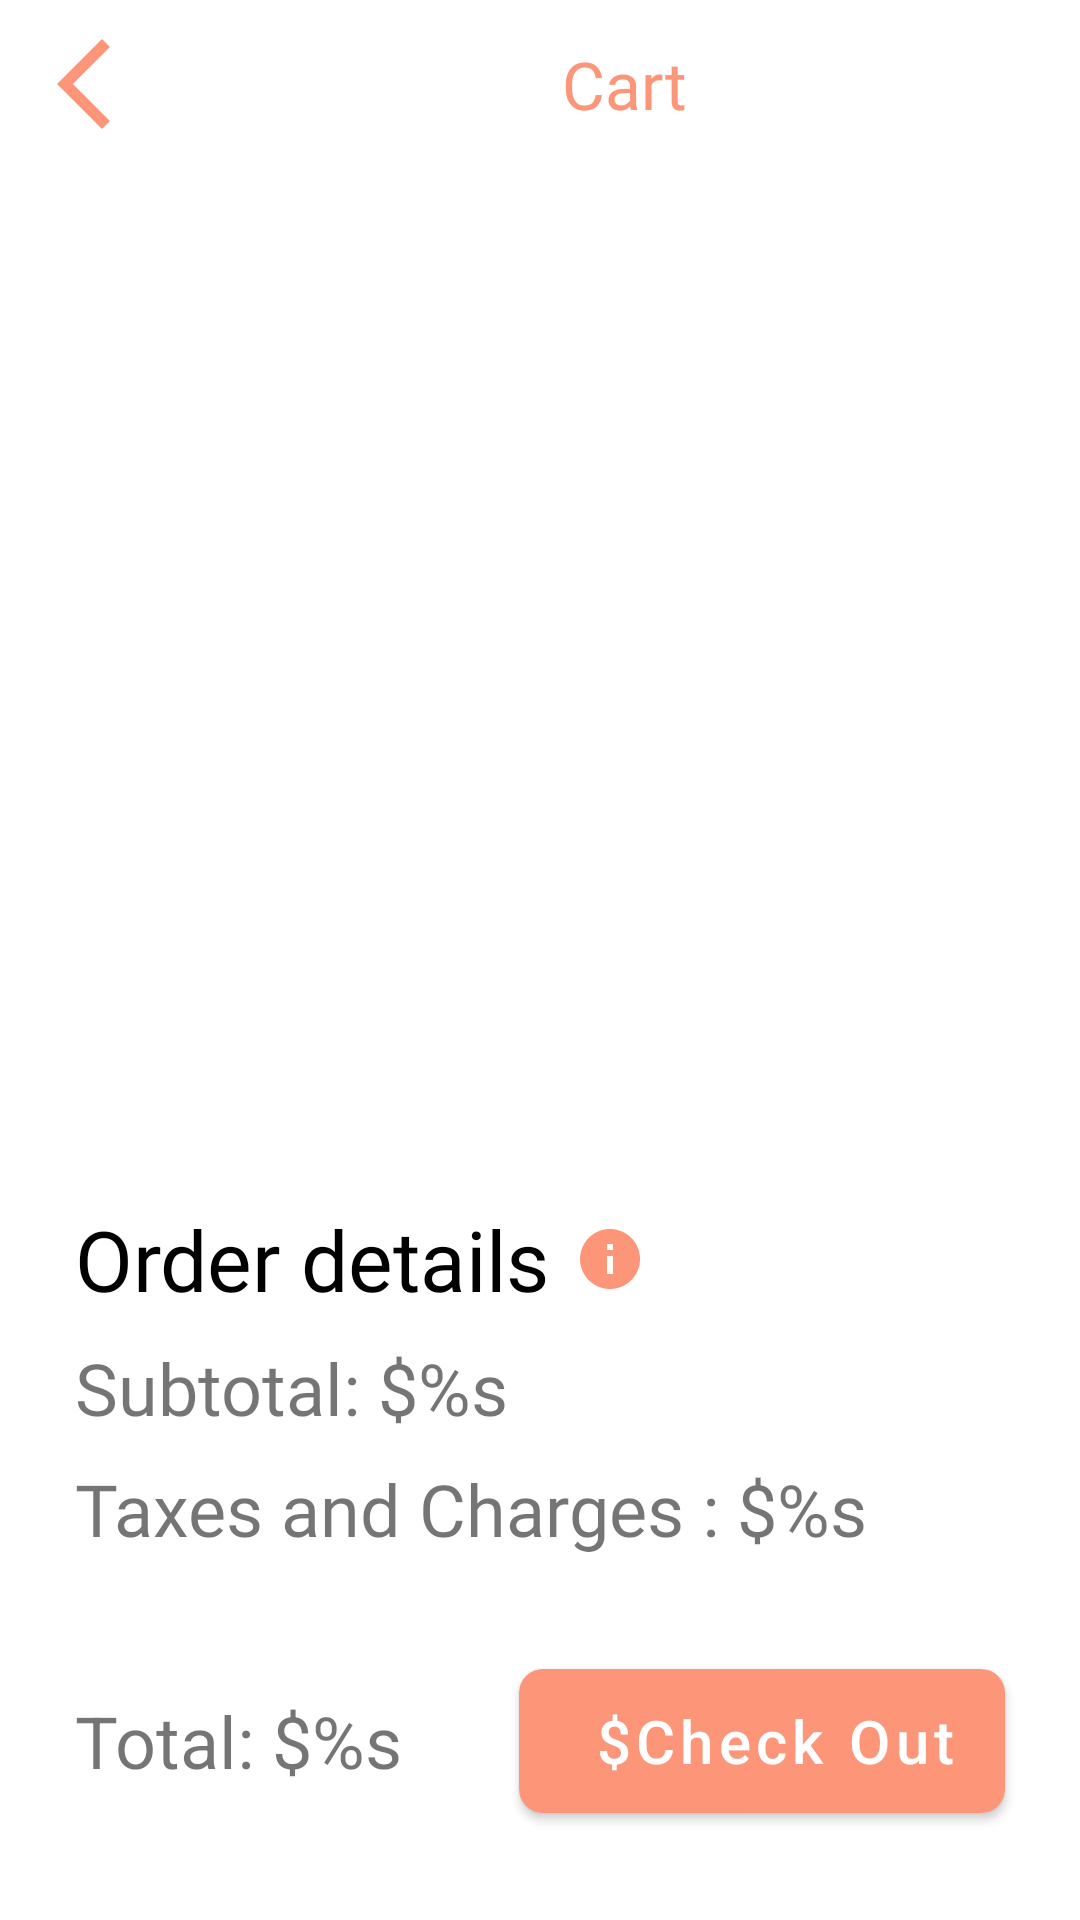

Named icons in this screenshot (1080px×1920px) and their bounding boxes, (x1, y1, x2, y2):
arrow back: (57, 39, 110, 129)
